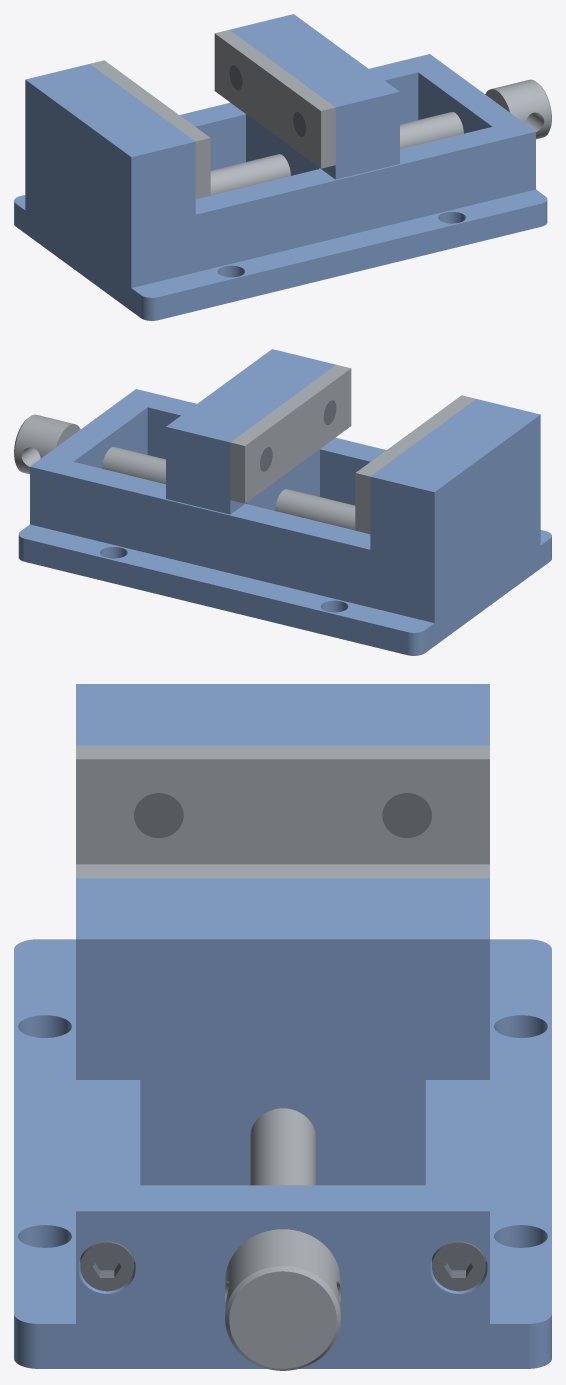
File: step_24.glb
3 renders of one model, top to bottom at view 1: azimuth 30°, elevation 25°; view 2: azimuth 150°, elevation 25°; view 3: azimuth 270°, elevation 25°, orthographic. The views are drawn at different scales.
Parts seen in each view (by area): view 1: part__body, part__moving jaw, part__moving jaw plate, part__end block, part__lead screw, part__fixed jaw plate; view 2: part__body, part__moving jaw, part__moving jaw plate, part__end block, part__lead screw, part__fixed jaw plate; view 3: part__moving jaw, part__body, part__fixed jaw plate, part__end block, part__lead screw, part__moving jaw plate, part__cap screw M8 x 30 1, part__cap screw M8 x 30 2, part__jaw plate screw 1, part__jaw plate screw 2.
Boxes of the visible parts, bbox=[...] form: part__body: bbox=[14, 60, 547, 320]; part__moving jaw: bbox=[230, 14, 399, 179]; part__moving jaw plate: bbox=[214, 29, 335, 168]; part__end block: bbox=[403, 54, 535, 195]; part__lead screw: bbox=[210, 79, 551, 195]; part__fixed jaw plate: bbox=[90, 60, 210, 199]; part__body: bbox=[18, 395, 551, 655]; part__moving jaw: bbox=[166, 349, 335, 514]; part__moving jaw plate: bbox=[230, 364, 351, 503]; part__end block: bbox=[30, 389, 162, 530]; part__lead screw: bbox=[14, 414, 355, 530]; part__fixed jaw plate: bbox=[355, 395, 475, 534]; part__moving jaw: bbox=[76, 878, 489, 1185]; part__body: bbox=[14, 684, 551, 1368]; part__fixed jaw plate: bbox=[76, 745, 489, 864]; part__end block: bbox=[76, 1185, 489, 1323]; part__lead screw: bbox=[225, 1108, 340, 1370]; part__moving jaw plate: bbox=[76, 864, 489, 878]; part__cap screw M8 x 30 1: bbox=[432, 1241, 485, 1291]; part__cap screw M8 x 30 2: bbox=[80, 1241, 133, 1291]; part__jaw plate screw 1: bbox=[382, 793, 431, 837]; part__jaw plate screw 2: bbox=[134, 793, 183, 837].
Size of the model in its own units: 250 by 80 by 130.
